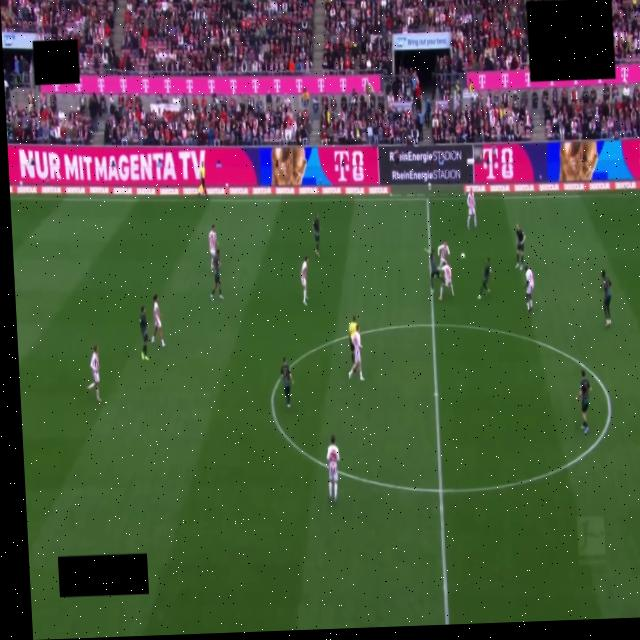ball: (461, 253, 465, 258)
player: (349, 324, 364, 380), (577, 370, 590, 433), (327, 436, 339, 503), (87, 346, 101, 402), (425, 249, 441, 293), (152, 295, 165, 347), (211, 249, 223, 301), (299, 256, 311, 306), (281, 358, 292, 409), (478, 258, 491, 299), (439, 264, 453, 300), (602, 271, 611, 327), (140, 306, 148, 360), (209, 225, 218, 272), (525, 265, 534, 312), (467, 188, 477, 230), (516, 224, 525, 268), (313, 214, 320, 257), (438, 241, 450, 266)
referee: (349, 315, 358, 363)
